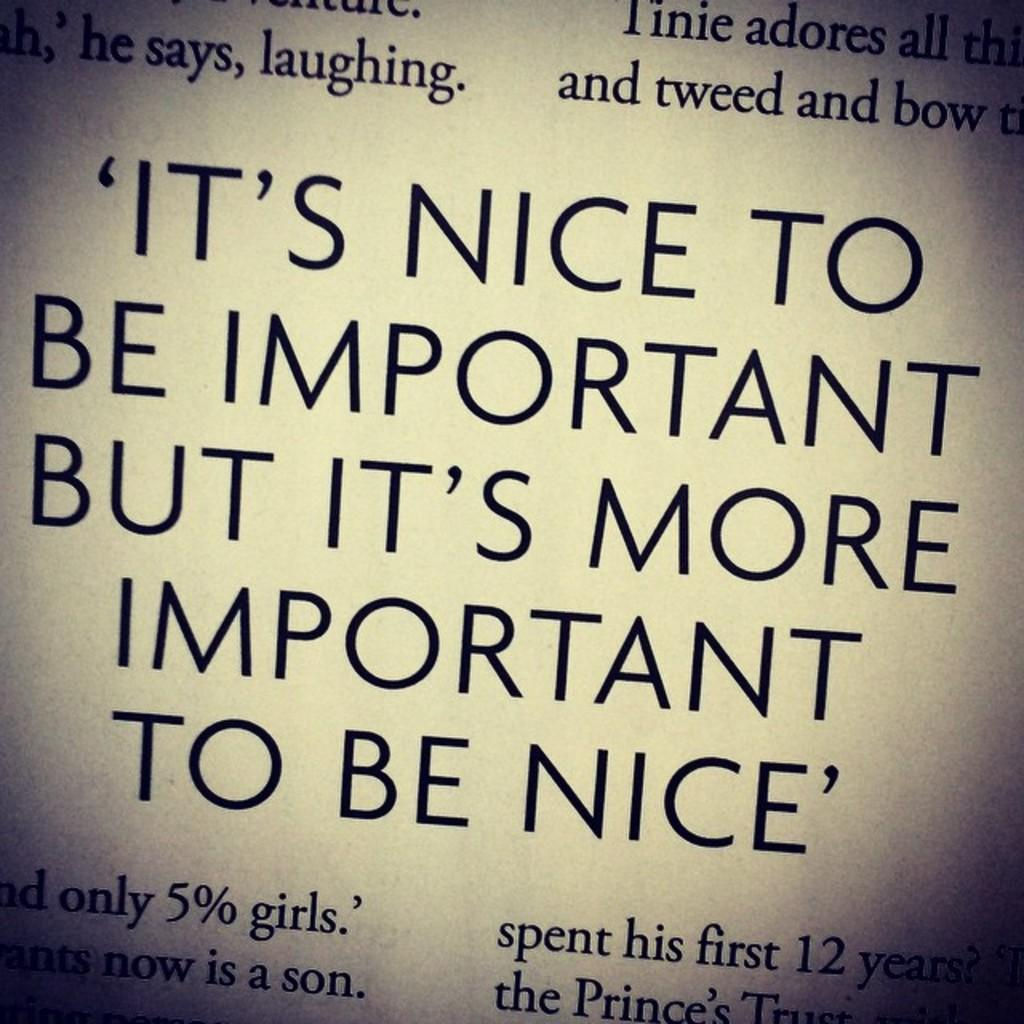book: (10, 21, 1024, 1005)
